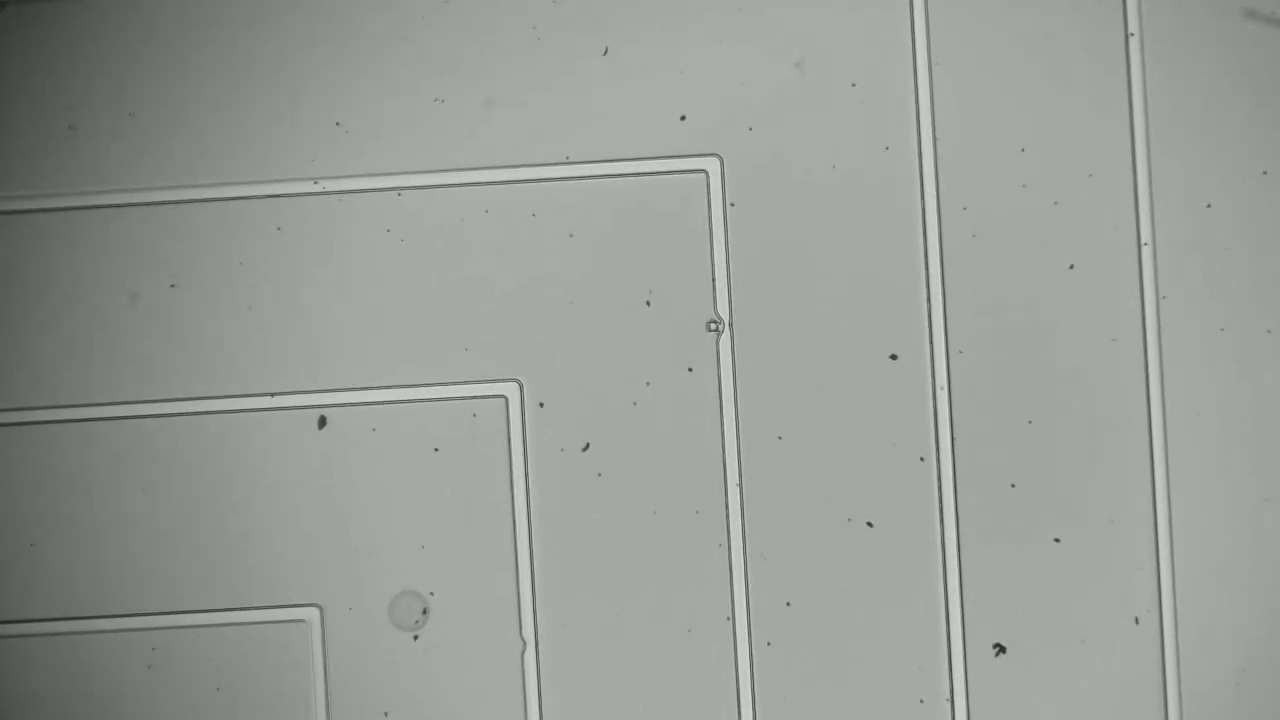edge_bite: (697, 302, 747, 344), (509, 625, 547, 665)
